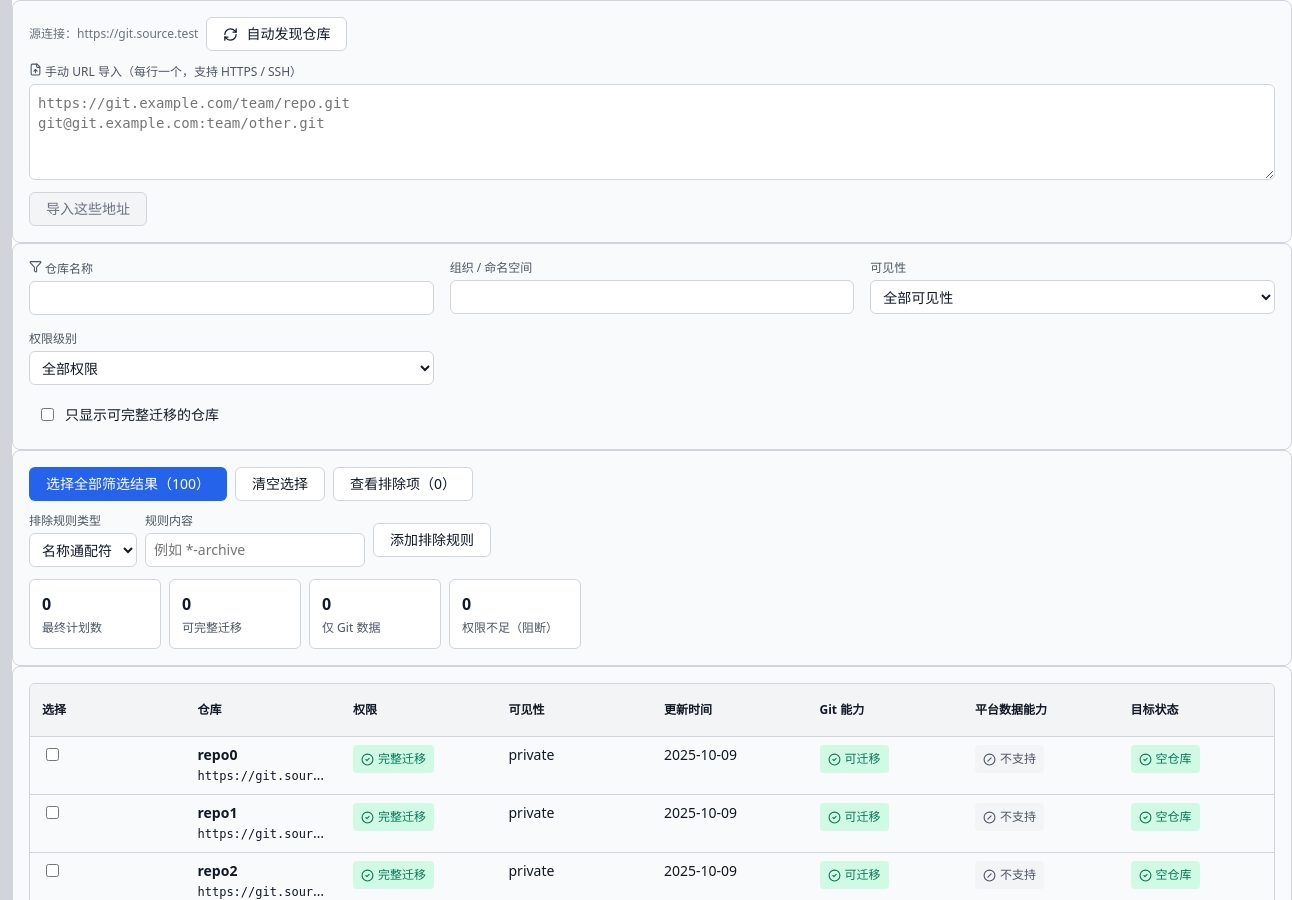
Test: 仓库选择页 › 100 个仓库全部渲染，计数为全量
The width and height of the screenshot is (1292, 900).
Click the button "选择全部筛选结果（100）". click: (128, 484)
box: [29,467,227,501]
(page scrolled)
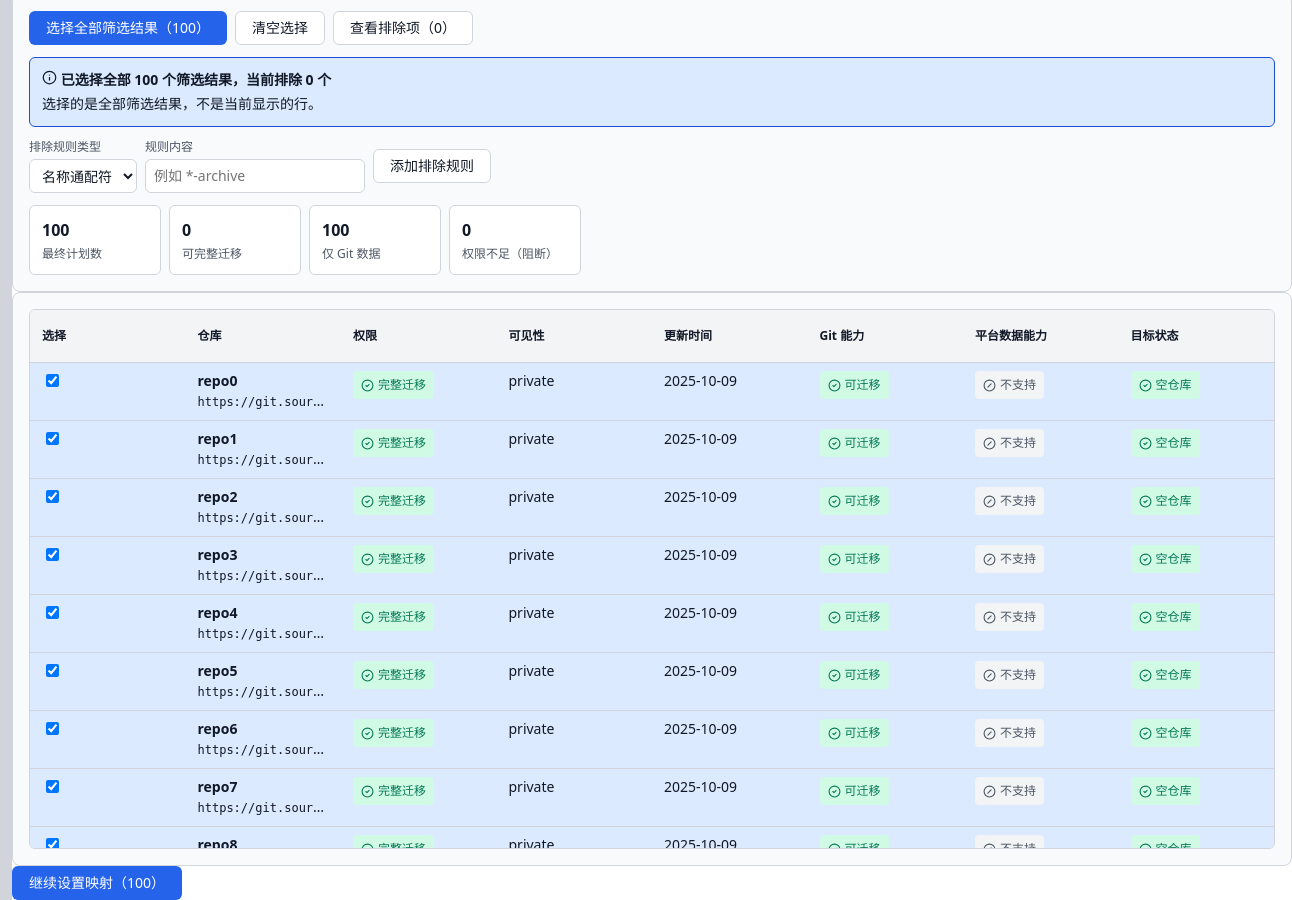
expect the text "已选择全部 100 个筛选结果，当前排除 0 个" is shown: met, box [42,70,331,89]
expect the button "继续设置映射（100）" is shown: met, box [12,866,182,899]
